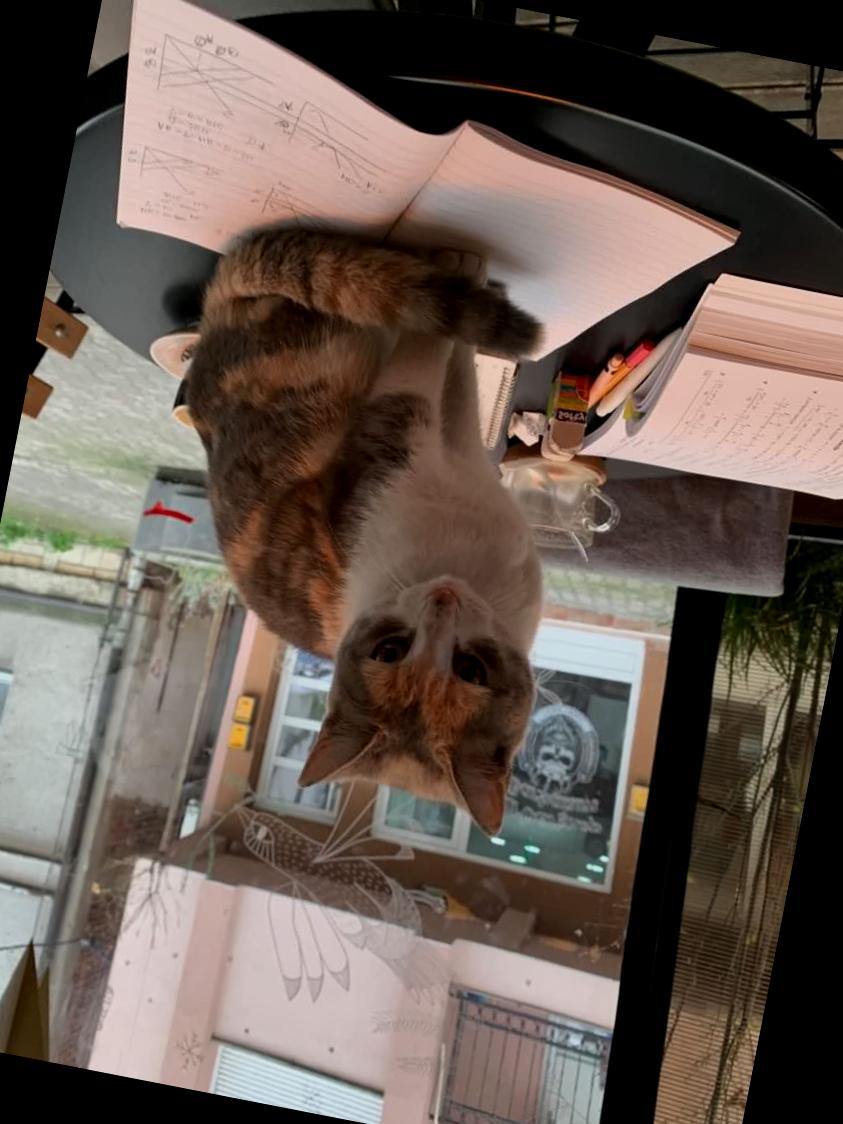macka: (112, 200, 620, 844)
